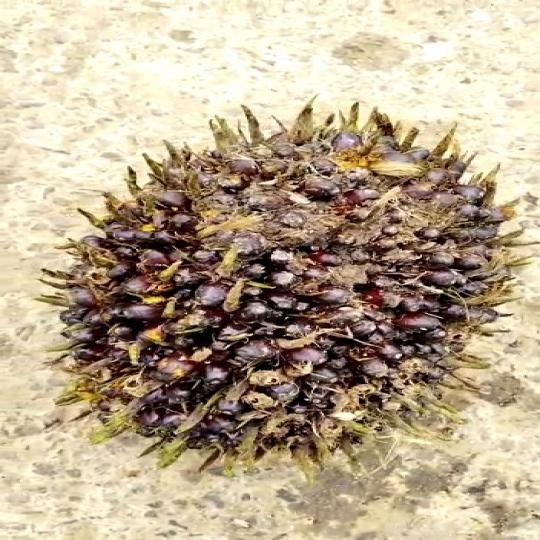kurang masak: (31, 88, 540, 473)
